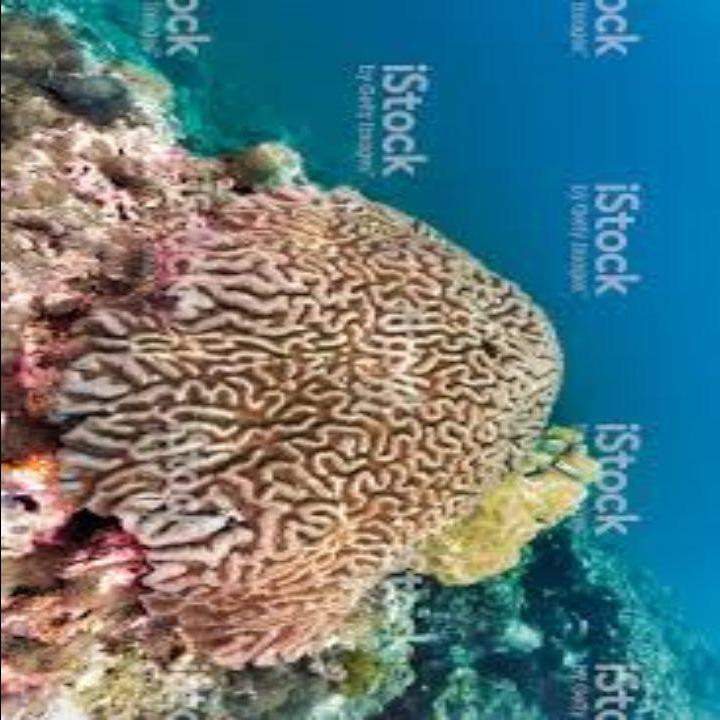Healthy Coral: (17, 170, 578, 666)
